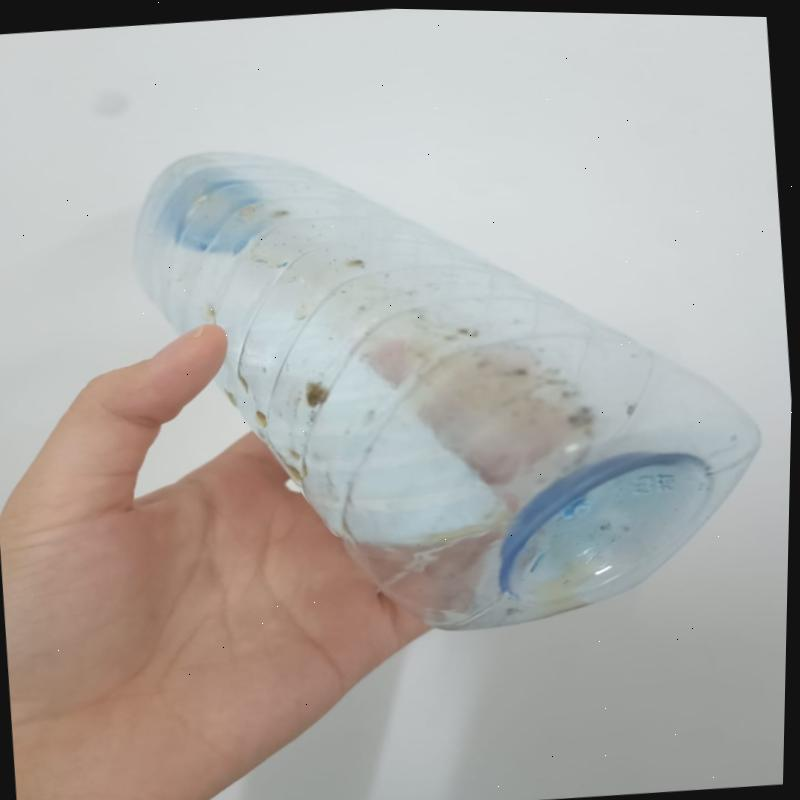botella: (120, 93, 793, 668)
